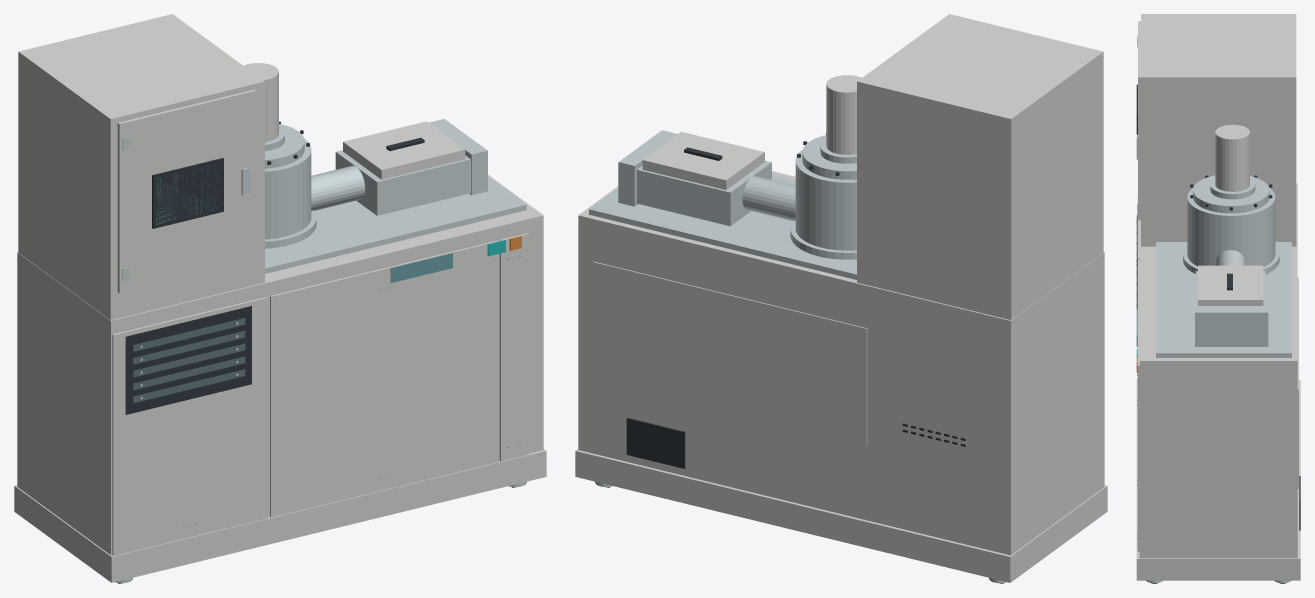
Rendered from fiji-g2-static.glb.
The picture shows the model from 3 angles, left to right: view 1: azimuth 30°, elevation 25°; view 2: azimuth 150°, elevation 25°; view 3: azimuth 270°, elevation 25°; orthographic projection. The views are drawn at different scales.
Parts seen in each view (by area): view 1: front_service_panel.001, electronics_tower, base_service_cabinet, front_service_panel, tower_front_door, nominal_footprint, deck, console_rack, front_service_panel.002, load_lock_exterior, inspection_shroud, upper_blank_display_bezel (+11 smaller); view 2: base_service_cabinet, electronics_tower, inferred_rear_cover, nominal_footprint, deck, reactor_external_shell, load_lock_exterior, inspection_shroud, remote_source_exterior_cover, rear_blank_plate, load_lock_link_exterior, load_lock_flange_side (+2 smaller); view 3: base_service_cabinet, electronics_tower, deck, reactor_external_shell, nominal_footprint, load_lock_flange_side, inspection_shroud, remote_source_exterior_cover, reactor_top_flange, tower_front_door, front_service_panel.002, remote_source_lower_flange (+4 smaller).
Boxes of the visible parts, bbox=[...] form: front_service_panel.001: bbox=[270, 240, 499, 517]; electronics_tower: bbox=[18, 14, 264, 320]; base_service_cabinet: bbox=[17, 175, 543, 555]; front_service_panel: bbox=[112, 297, 267, 555]; tower_front_door: bbox=[117, 89, 256, 293]; nominal_footprint: bbox=[14, 449, 546, 582]; deck: bbox=[265, 176, 526, 273]; console_rack: bbox=[125, 306, 251, 414]; front_service_panel.002: bbox=[499, 233, 528, 461]; load_lock_exterior: bbox=[335, 150, 470, 215]; inspection_shroud: bbox=[343, 121, 465, 179]; upper_blank_display_bezel: bbox=[152, 158, 223, 228]; base_service_cabinet: bbox=[578, 171, 1104, 555]; electronics_tower: bbox=[857, 14, 1103, 320]; inferred_rear_cover: bbox=[592, 261, 867, 445]; nominal_footprint: bbox=[575, 449, 1107, 582]; deck: bbox=[589, 175, 856, 279]; reactor_external_shell: bbox=[795, 150, 856, 250]; load_lock_exterior: bbox=[637, 160, 771, 226]; inspection_shroud: bbox=[642, 131, 764, 189]; remote_source_exterior_cover: bbox=[826, 75, 861, 154]; rear_blank_plate: bbox=[626, 418, 685, 468]; load_lock_link_exterior: bbox=[742, 175, 795, 220]; load_lock_flange_side: bbox=[618, 130, 677, 206]; base_service_cabinet: bbox=[1139, 183, 1297, 558]; electronics_tower: bbox=[1141, 14, 1296, 246]; deck: bbox=[1156, 242, 1291, 357]; reactor_external_shell: bbox=[1187, 188, 1275, 266]; nominal_footprint: bbox=[1136, 380, 1300, 580]; load_lock_flange_side: bbox=[1195, 306, 1268, 346]; inspection_shroud: bbox=[1198, 265, 1263, 305]; remote_source_exterior_cover: bbox=[1215, 124, 1249, 191]; reactor_top_flange: bbox=[1193, 175, 1269, 213]; tower_front_door: bbox=[1138, 21, 1140, 220]; front_service_panel.002: bbox=[1137, 354, 1139, 551]; remote_source_lower_flange: bbox=[1210, 178, 1255, 199].
Bounding box in the file's own units: 1.85 × 1.92 × 0.717.
